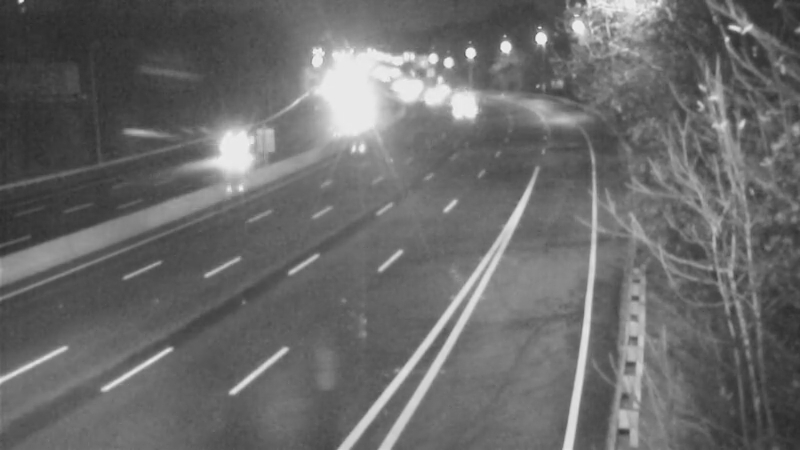vehicle: (440, 85, 490, 135), (204, 124, 254, 174)
